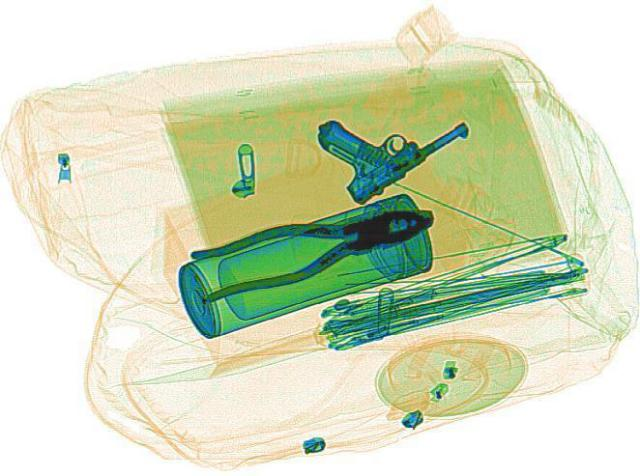Gun: (279, 72, 477, 205)
Pliers: (170, 186, 448, 304)
